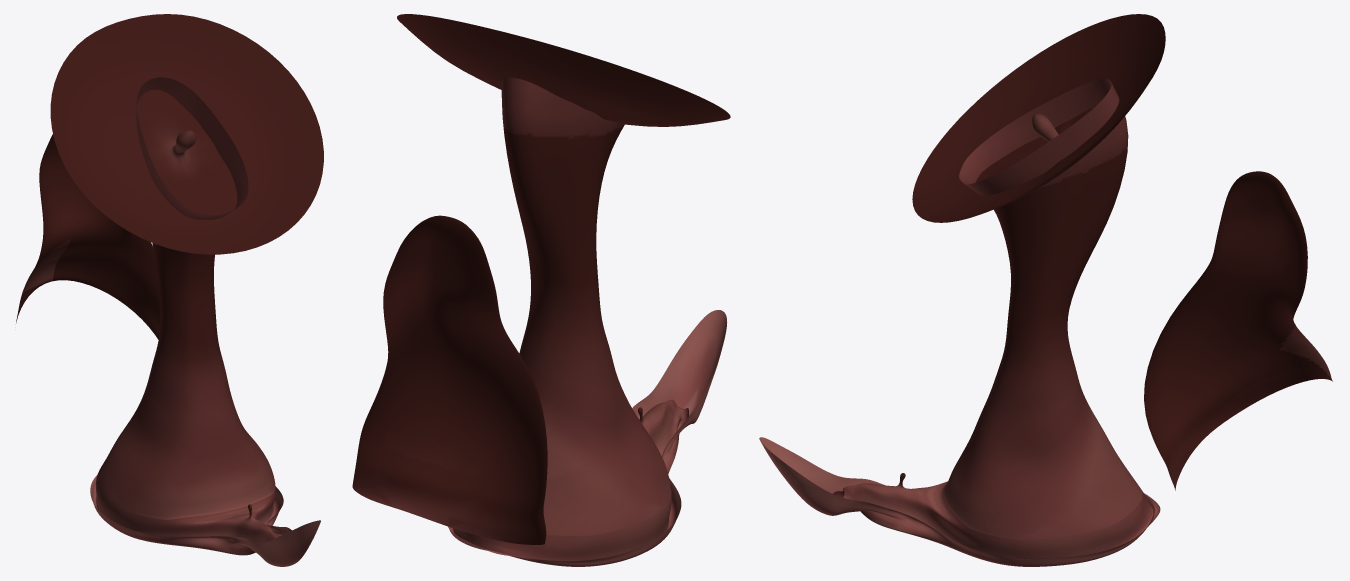
The model's file is MyBody Genitals Substance painter.obj.
3 renders of one model, left to right at view 1: azimuth 30°, elevation 25°; view 2: azimuth 150°, elevation 25°; view 3: azimuth 270°, elevation 25°, orthographic. The views are drawn at different scales.
Parts seen in each view (by area): view 1: Body.004; view 2: Body.004; view 3: Body.004.
Part boxes in pixels (x1,y1,x2,y2): Body.004: (16,14,323,566); Body.004: (352,14,730,566); Body.004: (759,14,1332,566).
Size of the model in its own units: 0.0609 by 0.1054 by 0.1126.
Materials: 1 (1 with a texture image).
